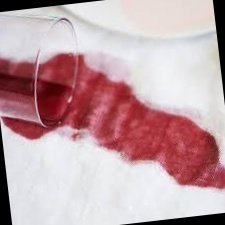wine: (112, 98, 194, 165), (68, 67, 134, 133), (175, 120, 225, 181)
